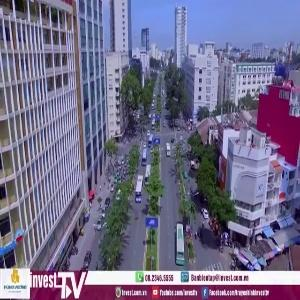drone: (99, 189, 154, 244)
